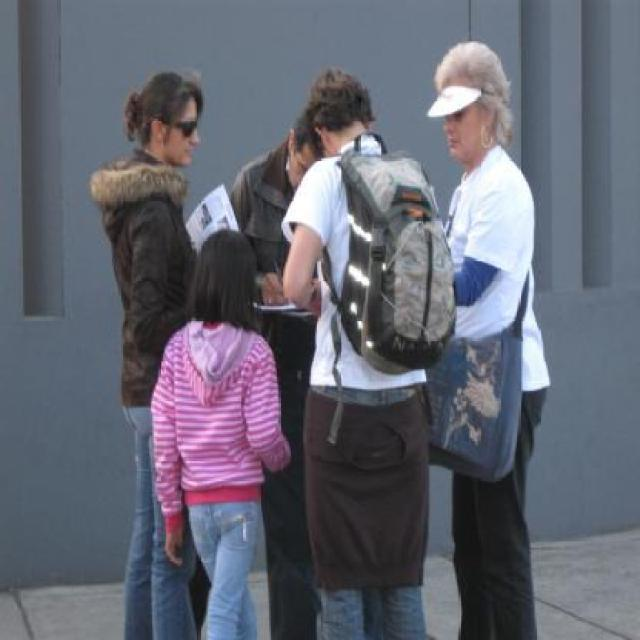backpack: (334, 137, 460, 377)
